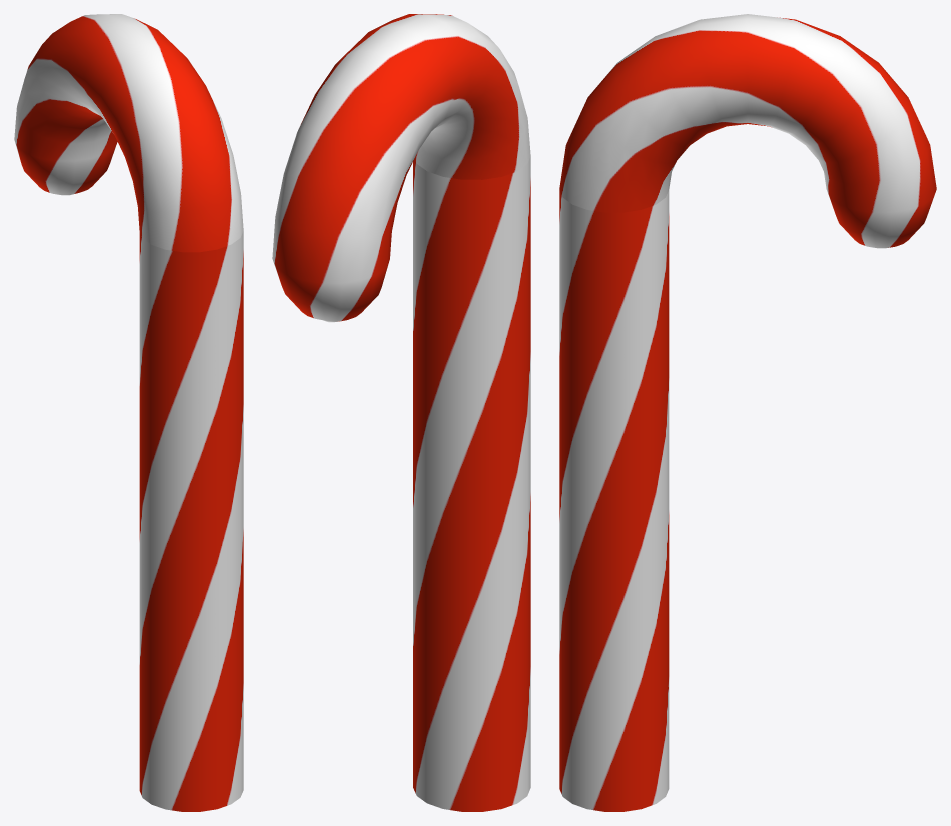
Rendered from Candy_Cane_01.fbx.
3 views of the same model, side by side, from view 1: azimuth 30°, elevation 25°; view 2: azimuth 150°, elevation 25°; view 3: azimuth 270°, elevation 25° (orthographic). The views are drawn at different scales.
Visible parts, largest first — view 1: Candy_Cane_01; view 2: Candy_Cane_01; view 3: Candy_Cane_01.
Part boxes in pixels (left/top/right/bottom): Candy_Cane_01: left=14, top=14, right=243, bottom=811; Candy_Cane_01: left=272, top=14, right=530, bottom=811; Candy_Cane_01: left=559, top=14, right=936, bottom=811.
Size of the model in its own units: 9.24 by 70.88 by 31.52.
